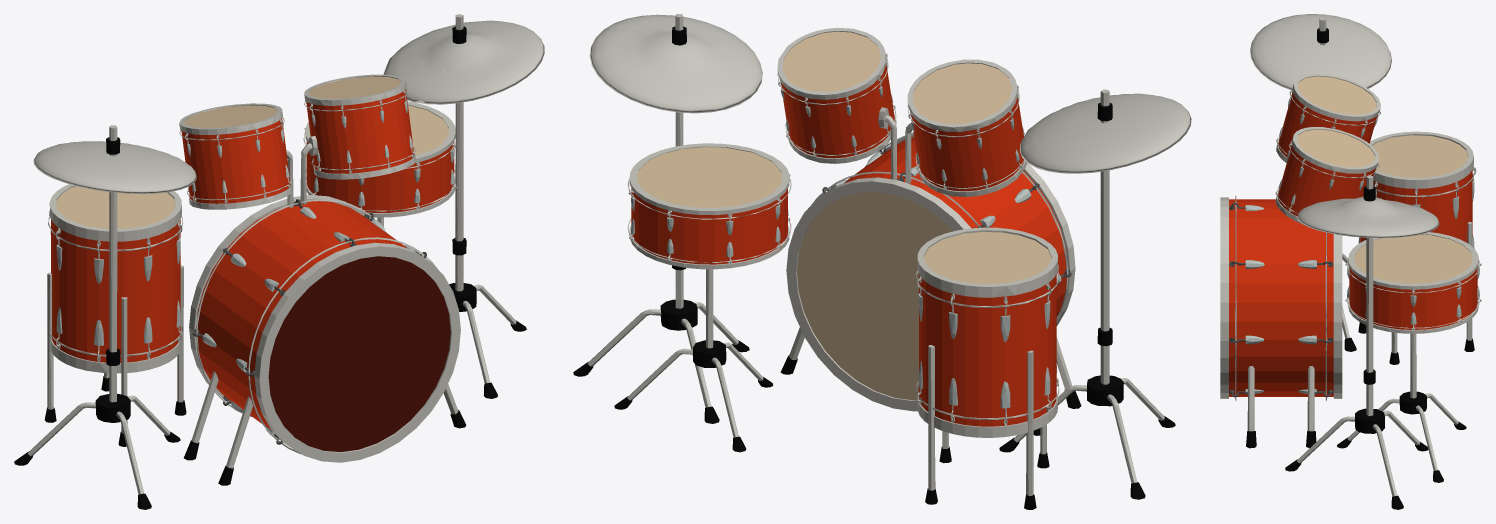
The model's file is batteria.fbx.
The picture shows the model from 3 angles, left to right: view 1: azimuth 30°, elevation 25°; view 2: azimuth 150°, elevation 25°; view 3: azimuth 270°, elevation 25°; orthographic projection. The views are drawn at different scales.
Visible parts, largest first — view 1: Sphere.005; view 2: Sphere.005; view 3: Sphere.005.
Boxes of the visible parts, x1,y1,x2,y2 form: Sphere.005: [14, 14, 544, 509]; Sphere.005: [573, 14, 1191, 509]; Sphere.005: [1220, 14, 1481, 509].
Size of the model in its own units: 974 by 608 by 484.
